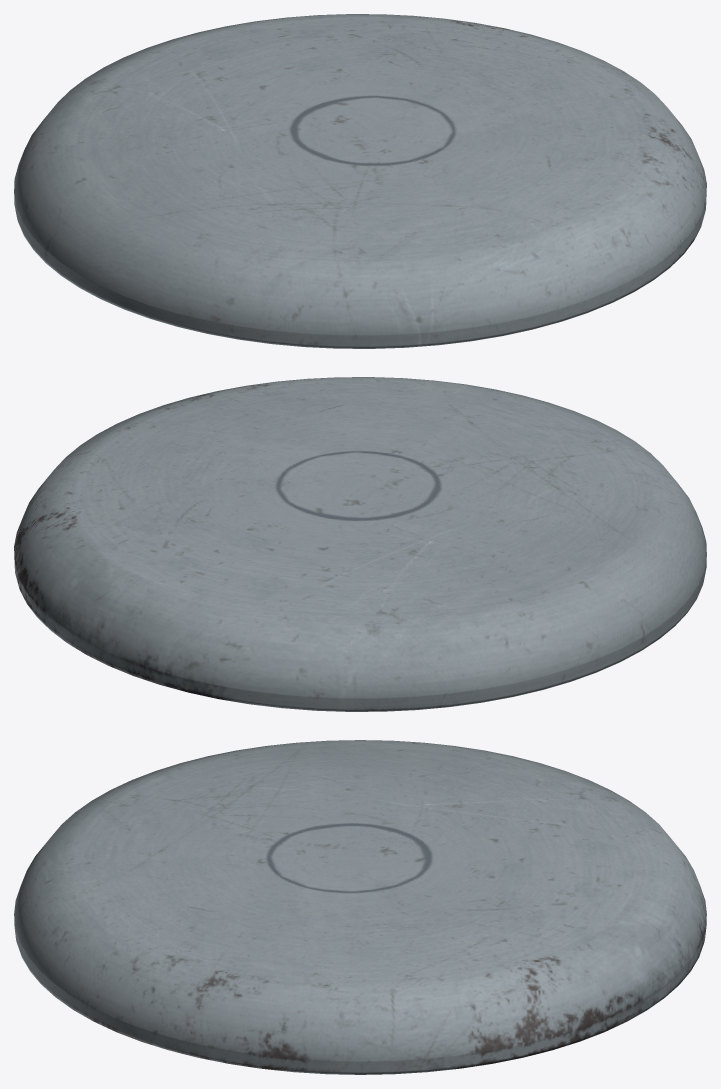
The model's file is SM_RiceBowls104_Cap.fbx.
3 views of the same model, one above another, from view 1: azimuth 30°, elevation 25°; view 2: azimuth 150°, elevation 25°; view 3: azimuth 270°, elevation 25° (orthographic).
Visible parts, largest first — view 1: SM_RiceBowls104_Cap; view 2: SM_RiceBowls104_Cap; view 3: SM_RiceBowls104_Cap.
Boxes of the visible parts, bbox=[...] form: SM_RiceBowls104_Cap: bbox=[14, 14, 706, 348]; SM_RiceBowls104_Cap: bbox=[14, 377, 706, 711]; SM_RiceBowls104_Cap: bbox=[14, 740, 706, 1074].
Size of the model in its own units: 11.27 by 1.34 by 11.27.
Materials: 1 (1 with a texture image).
